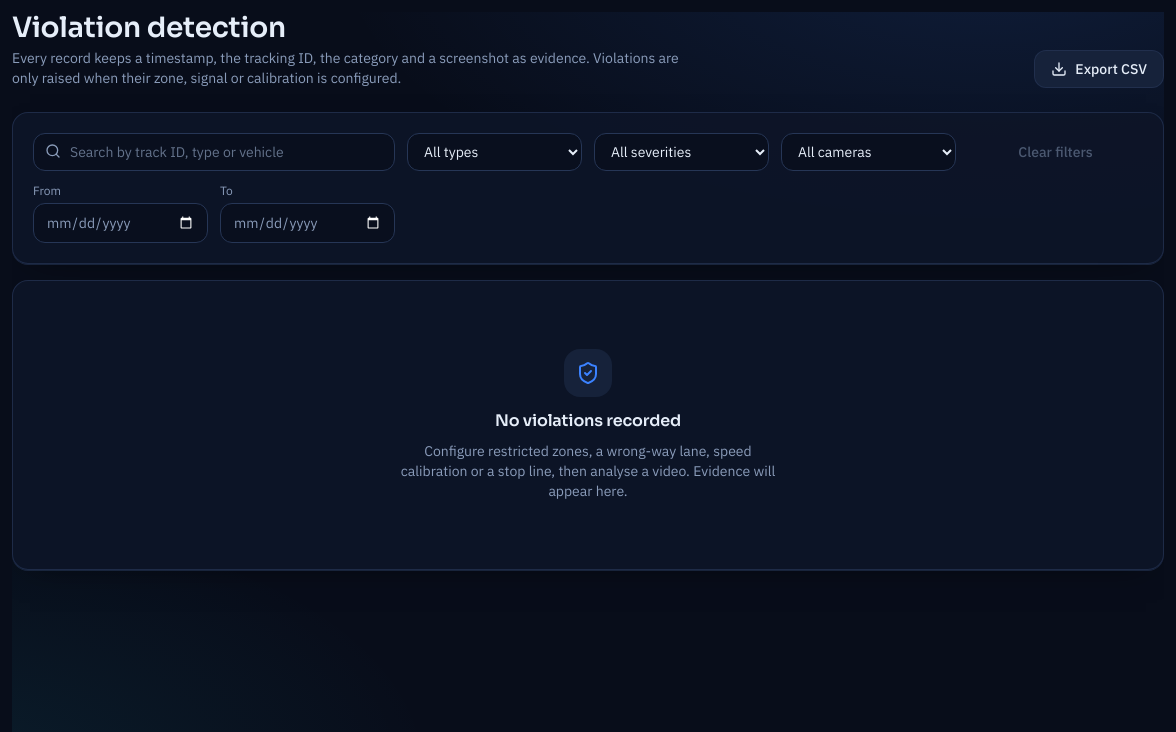
Scenario: Violations › shows an empty state and sends filters to the API
Expected: the text "No violations recorded" is shown, [495,409,681,433]
Step 1. Select "Overspeeding" in the dropdown named "Violation type" → [494, 152], box [407,133,582,171]
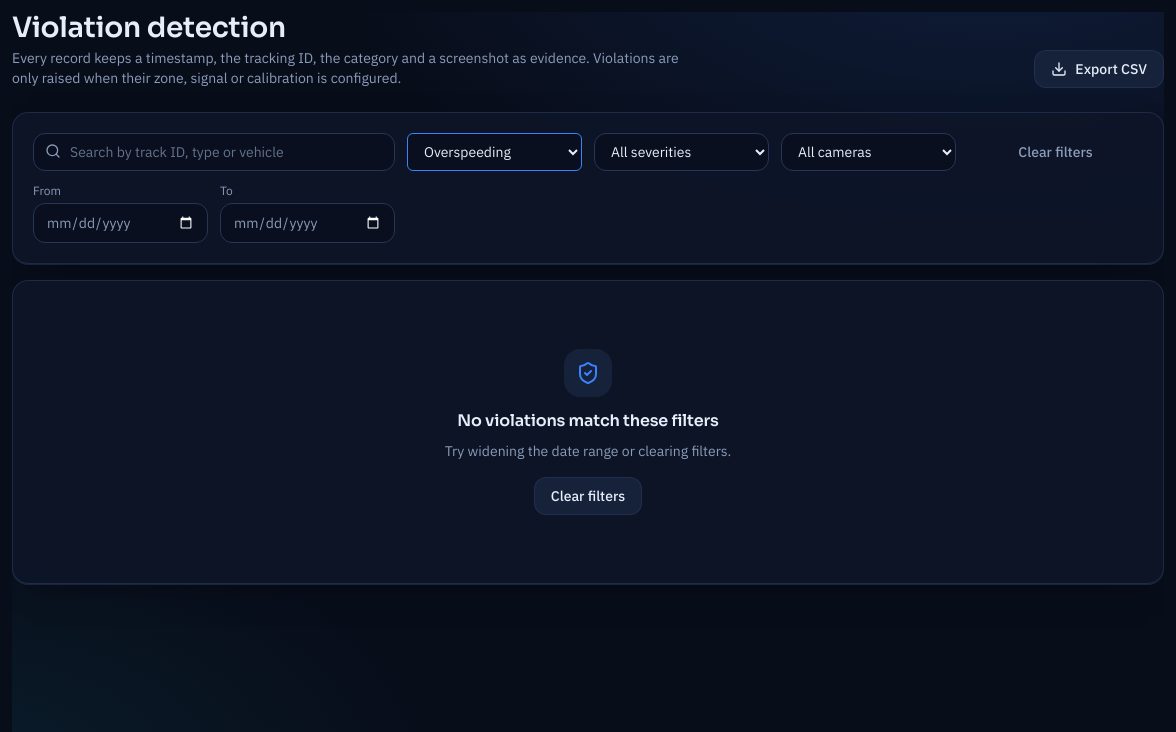
Expected: the text "No violations match these filters" is shown, [457,409,719,433]
Step 2. Click the 1st button "Clear filters" → [1056, 152], box [968,133,1143,171]
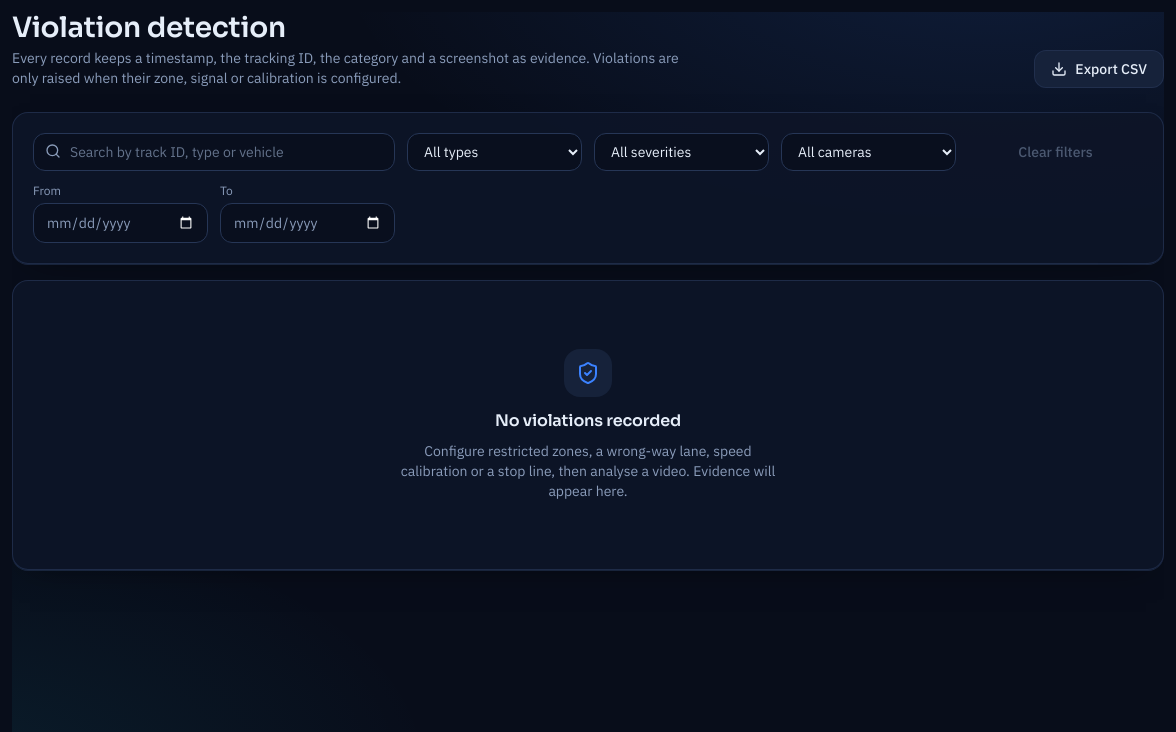
Expected: the text "No violations recorded" is shown, [495,409,681,433]
